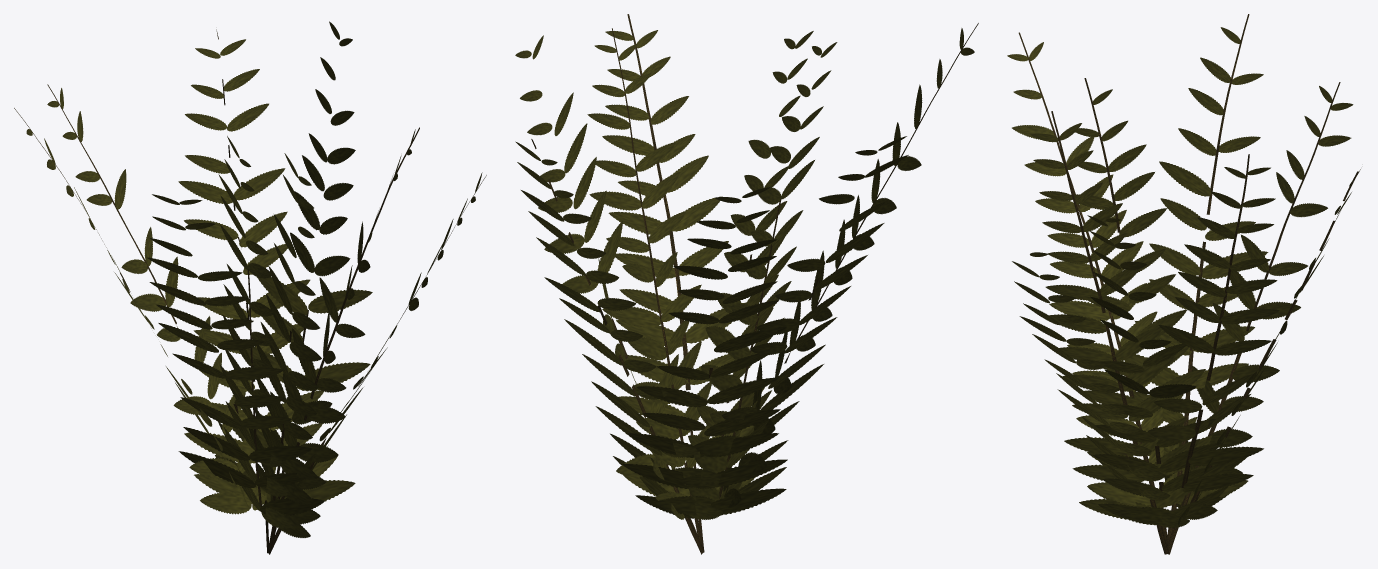
File: royal_fern_v02_LOD1.fbx
The picture shows the model from 3 angles, left to right: view 1: azimuth 30°, elevation 25°; view 2: azimuth 150°, elevation 25°; view 3: azimuth 270°, elevation 25°; orthographic projection. The views are drawn at different scales.
Visible parts, largest first — view 1: royal_fern_v02_LOD1; view 2: royal_fern_v02_LOD1; view 3: royal_fern_v02_LOD1.
Part boxes in pixels (x1=…): royal_fern_v02_LOD1: x1=14, y1=21, x2=486, y2=554; royal_fern_v02_LOD1: x1=515, y1=14, x2=978, y2=554; royal_fern_v02_LOD1: x1=1007, y1=14, x2=1360, y2=554.
Size of the model in its own units: 106 by 133 by 94.16.
2 materials, 2 textured.
